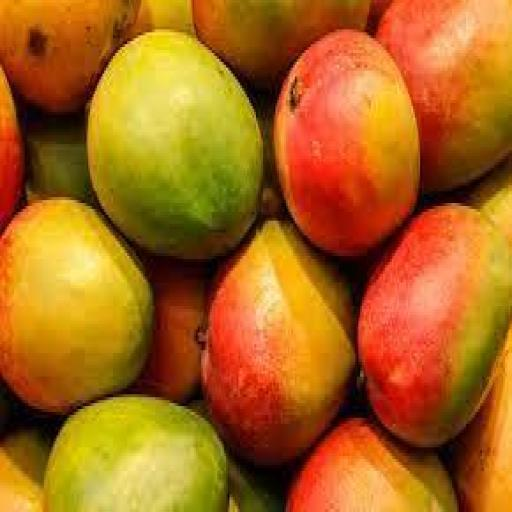mango: (87, 33, 264, 253), (202, 224, 358, 459), (361, 204, 511, 444), (276, 33, 420, 255), (0, 198, 153, 406)
